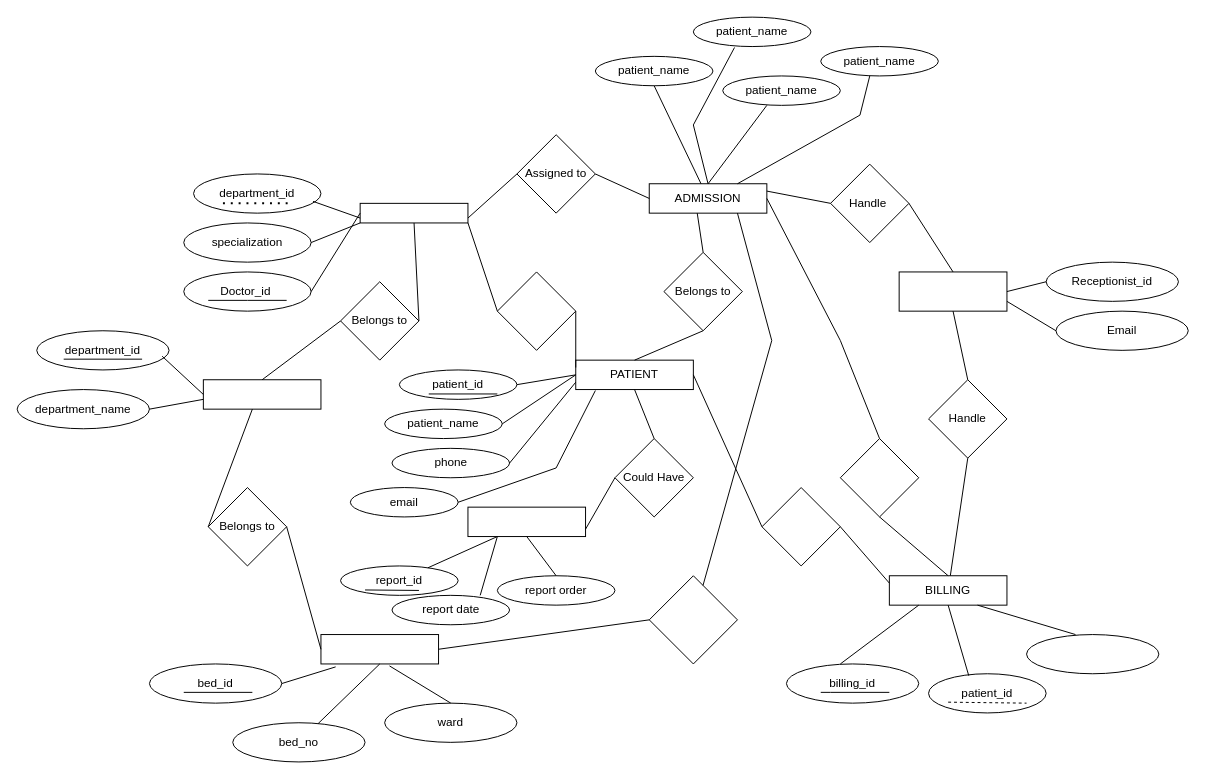
Image size: 1205x779. Some labels were removed from this diagram. Each missing label, with the centre of its shape:
"amount" belongs at pixel 1092 654.
"BED" belongs at pixel 379 649.
"can be used in many" belongs at pixel 692 619.
"DEPARTMENT" belongs at pixel 261 394.
"DOCTOR" belongs at pixel 413 212.
"Has many" belongs at pixel 879 477.
"LAB_REPORT" belongs at pixel 526 521.
"Receive" belongs at pixel 800 526.
"RECEPTIONIST" belongs at pixel 952 291.
"Treats" belongs at pixel 536 310.
